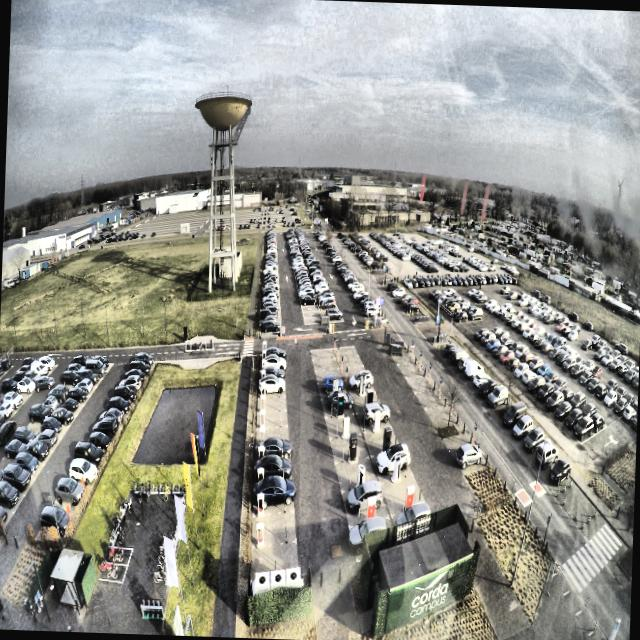cabinet: (255, 567, 301, 588)
car: (254, 475, 297, 510), (256, 453, 293, 483), (257, 436, 294, 461), (258, 374, 286, 394), (261, 353, 286, 370), (260, 365, 285, 379), (262, 346, 286, 360)
parking: (251, 540, 299, 581), (252, 509, 295, 546), (253, 484, 293, 515), (254, 464, 292, 488), (255, 443, 291, 467), (255, 426, 289, 447), (256, 411, 287, 429), (258, 381, 286, 399), (257, 396, 286, 412), (259, 367, 284, 379), (259, 357, 284, 369), (259, 348, 284, 360)
supercharger: (256, 522, 264, 547), (257, 494, 264, 515), (257, 468, 264, 484), (258, 446, 264, 463), (259, 410, 264, 427), (259, 427, 264, 442), (260, 395, 265, 408), (261, 370, 266, 381), (261, 382, 265, 395), (262, 349, 266, 360), (262, 359, 266, 369), (262, 340, 266, 350)
